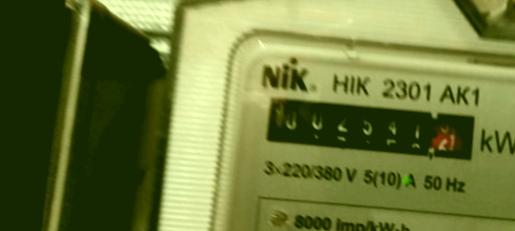0: (280, 106, 301, 133), (308, 106, 325, 134)
1: (408, 114, 424, 142)
2: (333, 108, 351, 135)
4: (385, 113, 400, 137)
5: (357, 110, 378, 140)
6: (434, 134, 451, 153)
screen: (252, 81, 491, 176)
